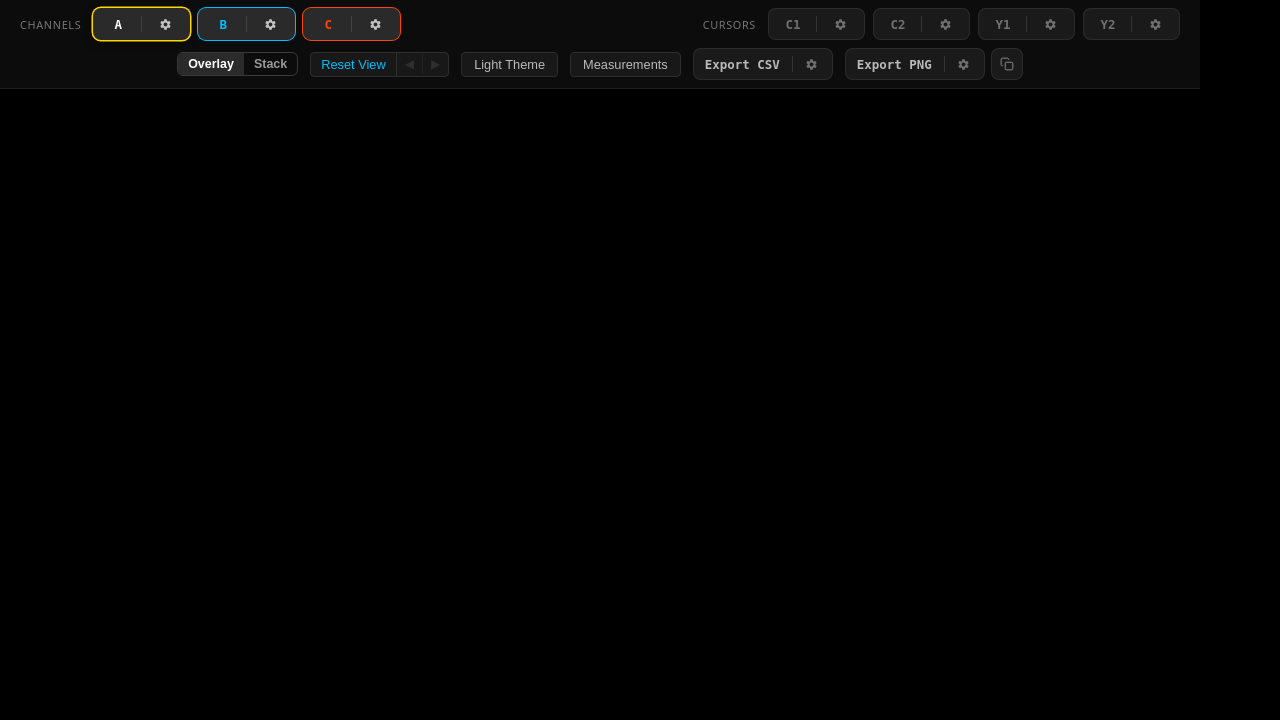
CursorFeatureJumpSection (issue #314) › disables Prev/Next when no further feature exists with zero layout shift and polite sr-only announcements
What coordinates should you click on to do the following:
click the button named "Configure Cursor C1"
I would click on:
 (841, 24)
Its box is left=817, top=0, right=865, bottom=48.
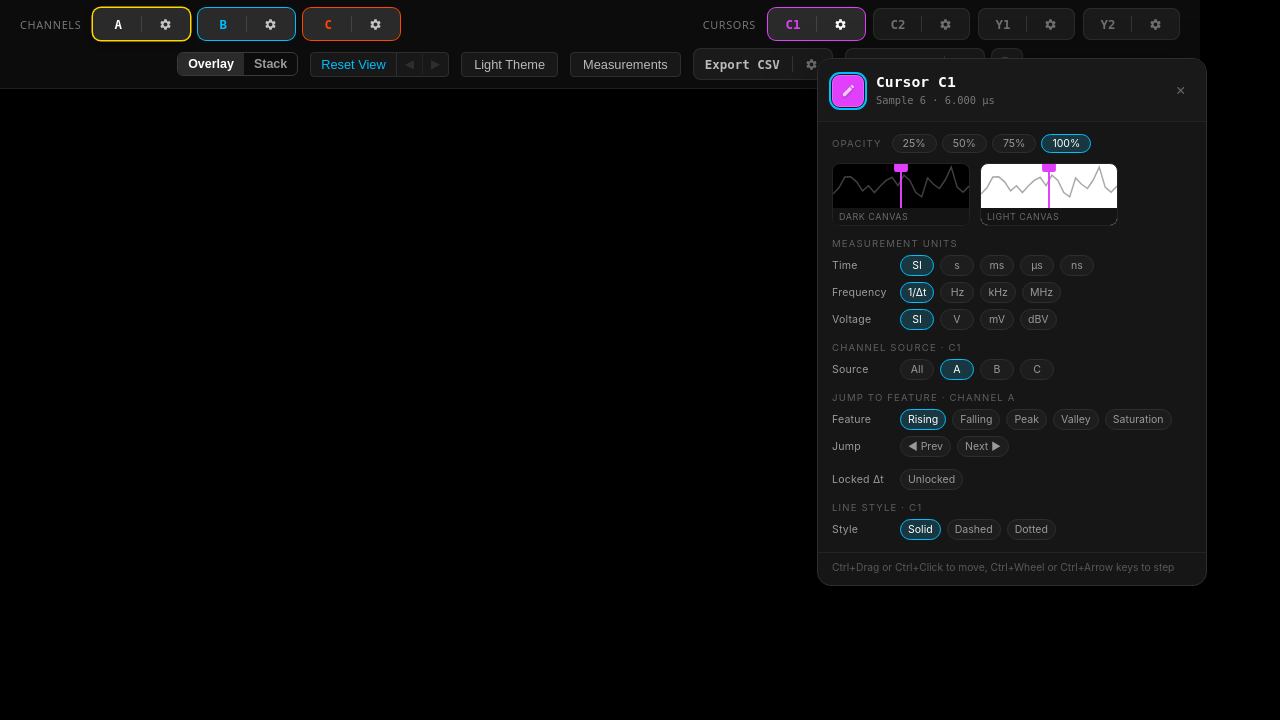
Now the button with test id "cursor-find-next-btn" is disabled, box left=957, top=436, right=1009, bottom=457
Now the button with test id "cursor-find-prev-btn" is enabled, box left=900, top=436, right=951, bottom=457
